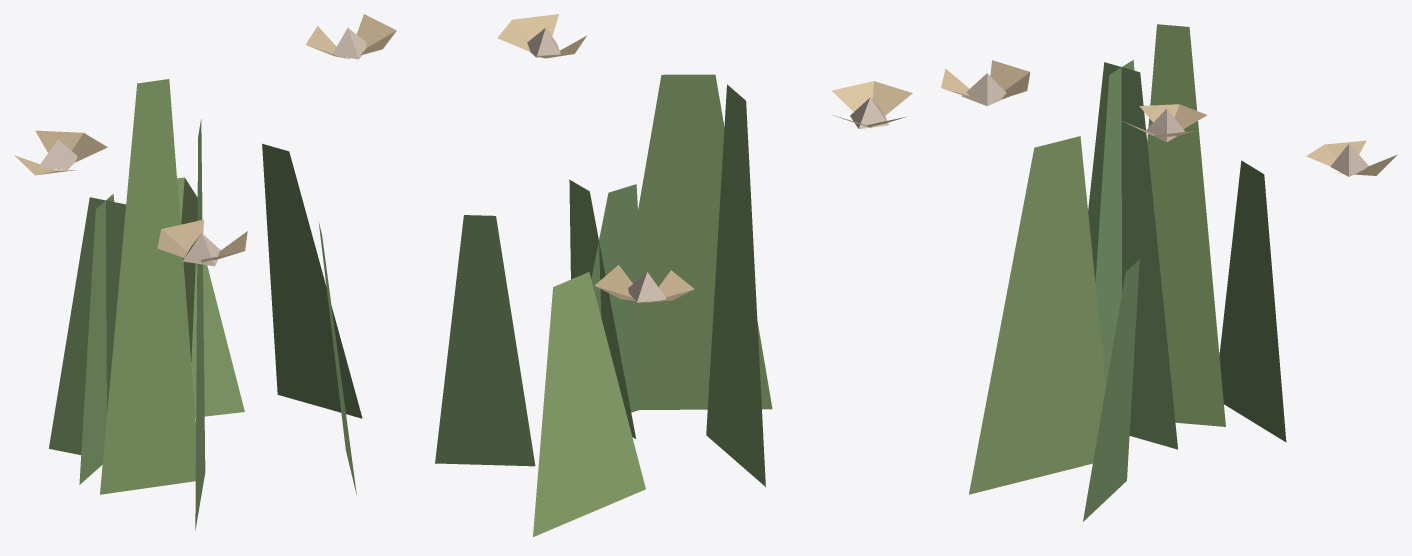
Rendered from cao.yangmao__bloom.glb.
The picture shows the model from 3 angles, left to right: view 1: azimuth 30°, elevation 25°; view 2: azimuth 150°, elevation 25°; view 3: azimuth 270°, elevation 25°; orthographic projection. The views are drawn at different scales.
Parts seen in each view (by area): view 1: cao.yangmao__bloom; view 2: cao.yangmao__bloom; view 3: cao.yangmao__bloom.
Boxes of the visible parts, <box> form: cao.yangmao__bloom: <box>14,14,396,530</box>; cao.yangmao__bloom: <box>435,14,912,536</box>; cao.yangmao__bloom: <box>941,24,1397,521</box>.
Bounding box in the file's own units: 0.4875 × 0.5759 × 0.5865.
